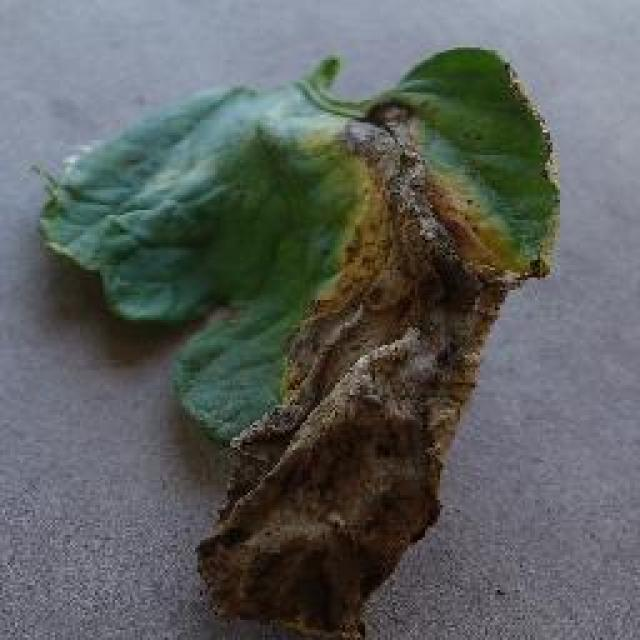Tomato___Early_blight: (27, 44, 563, 638)
